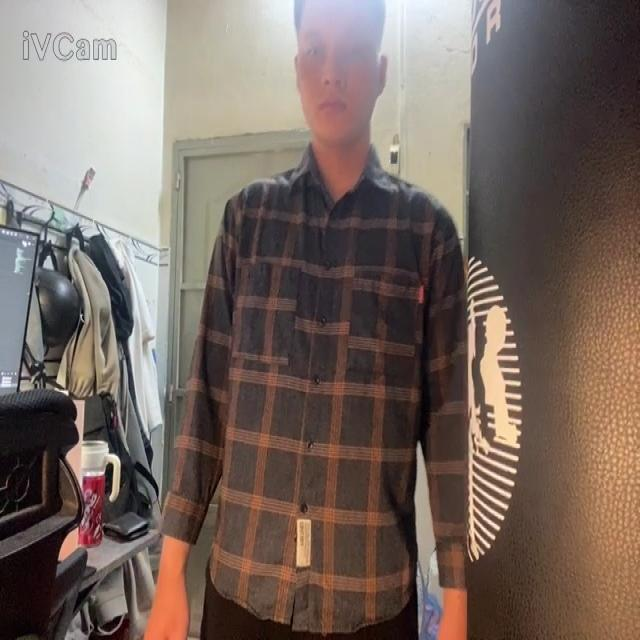u: (164, 147, 465, 633)
